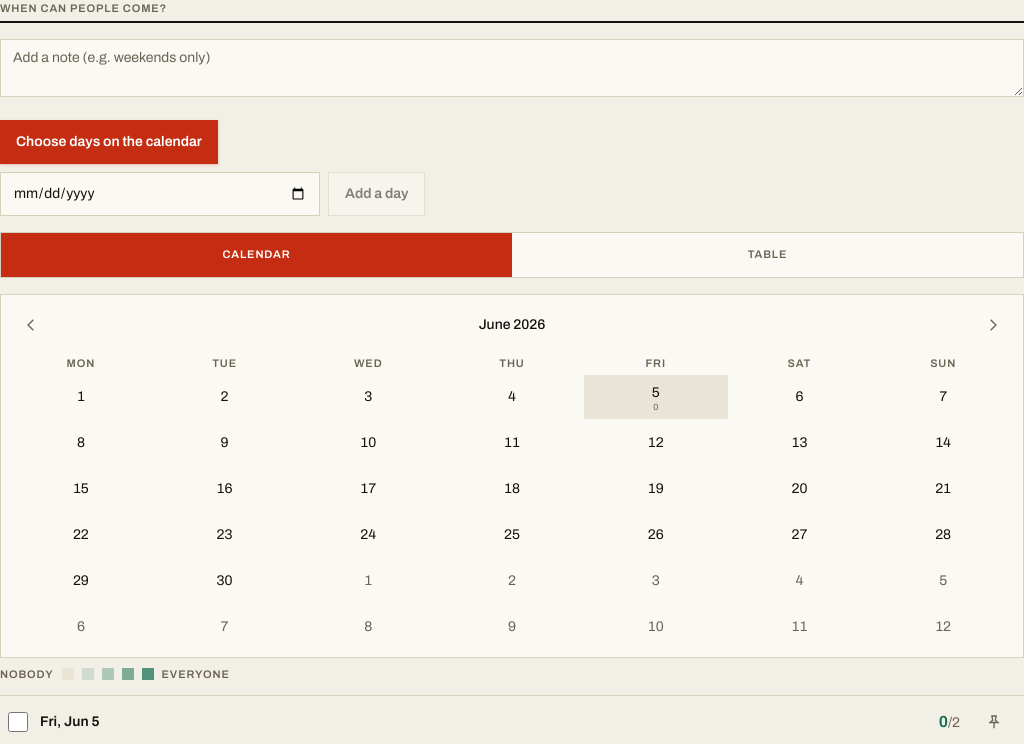
Test: dog participants › does not let a dog vote left in the blob lock a day option
Step 1. Click the button "Table" → {"x": 768, "y": 254}, box [512, 232, 1023, 276]
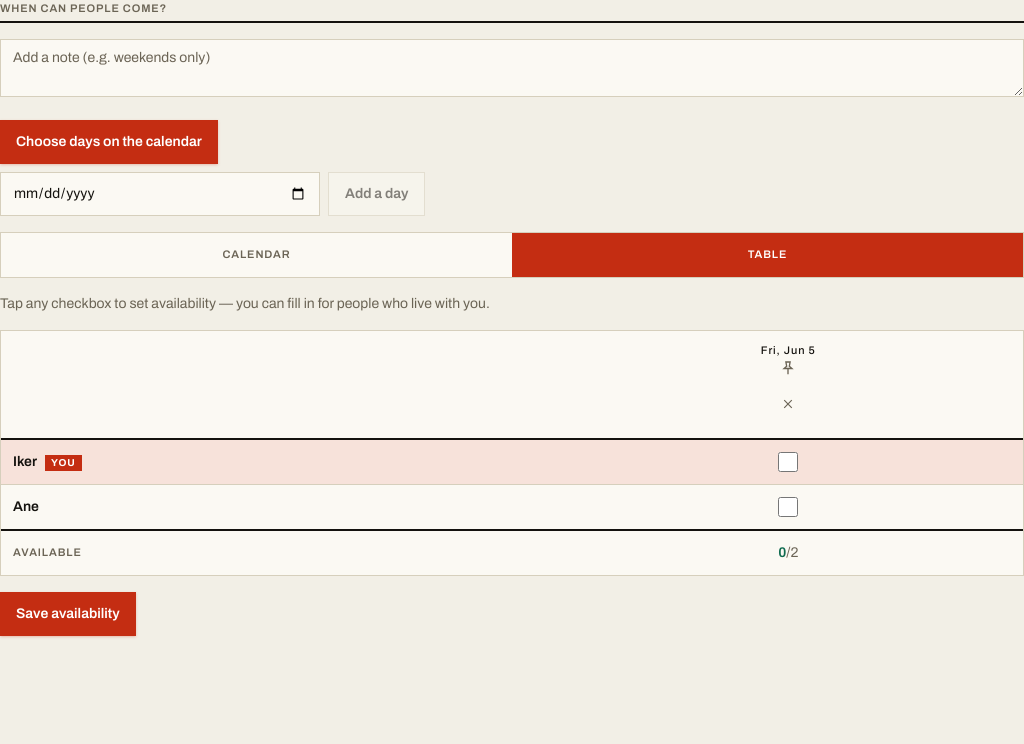
Now the text "Iker" is shown, box [13, 454, 37, 469]
Now the button named "Remove day" is shown, box [766, 382, 810, 426]
